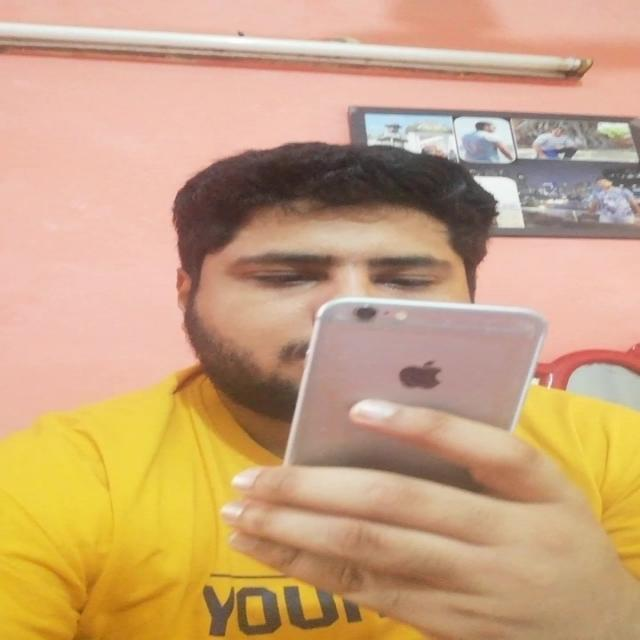Phone: (280, 298, 549, 481)
